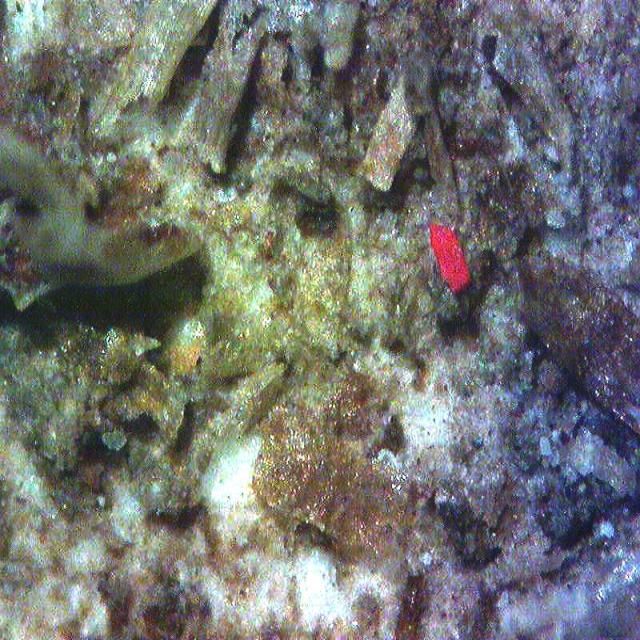microplastic: (430, 223, 472, 297)
